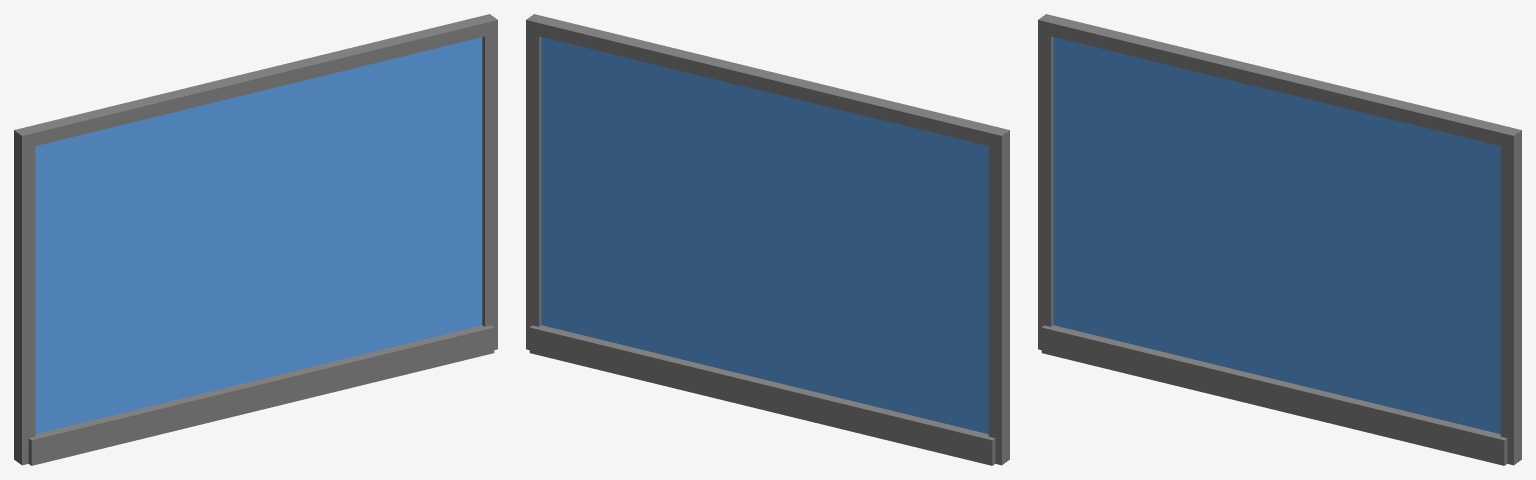
The model's file is TellerDeskBarrier_02.fbx.
The picture shows the model from 3 angles, left to right: view 1: azimuth 30°, elevation 25°; view 2: azimuth 150°, elevation 25°; view 3: azimuth 330°, elevation 25°; orthographic projection.
Visible parts, largest first — view 1: SM_Prop_TellerDesk_Barrier_Glass_02, SM_Prop_TellerDesk_Barrier_02; view 2: SM_Prop_TellerDesk_Barrier_Glass_02, SM_Prop_TellerDesk_Barrier_02; view 3: SM_Prop_TellerDesk_Barrier_Glass_02, SM_Prop_TellerDesk_Barrier_02.
Part boxes in pixels (x1=…): SM_Prop_TellerDesk_Barrier_Glass_02: x1=35, y1=37, x2=482, y2=433; SM_Prop_TellerDesk_Barrier_02: x1=14, y1=14, x2=497, y2=465; SM_Prop_TellerDesk_Barrier_Glass_02: x1=541, y1=37, x2=988, y2=433; SM_Prop_TellerDesk_Barrier_02: x1=526, y1=14, x2=1009, y2=465; SM_Prop_TellerDesk_Barrier_Glass_02: x1=1053, y1=37, x2=1500, y2=433; SM_Prop_TellerDesk_Barrier_02: x1=1038, y1=14, x2=1521, y2=465.
Bounding box in the file's own units: 1.73 × 1.15 × 0.0881.
